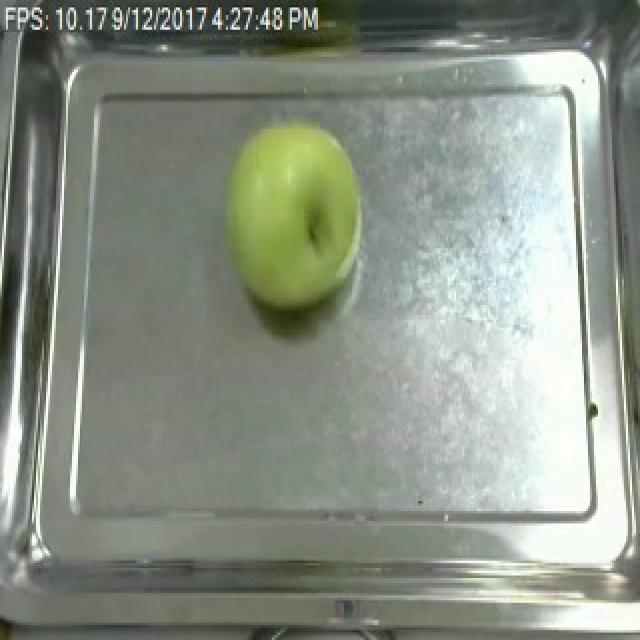50-_ripeness: (222, 124, 380, 310)
